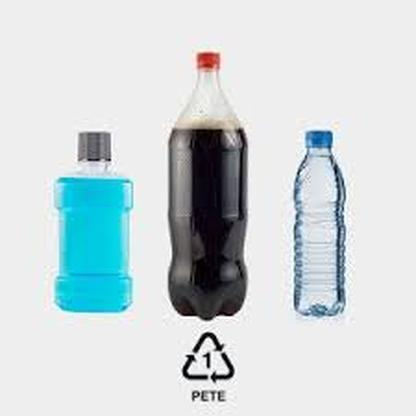plastic bottle: (167, 52, 247, 320), (54, 132, 134, 314), (292, 131, 346, 316)
